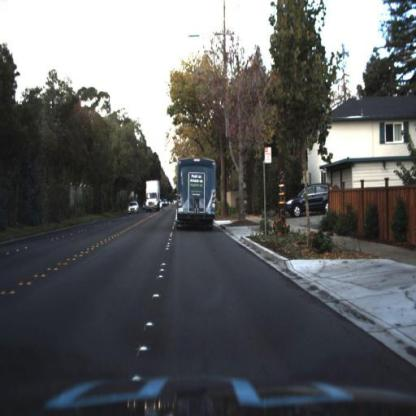car: (284, 183, 337, 214), (145, 180, 163, 216), (128, 200, 140, 215)
truck: (175, 155, 219, 235), (144, 179, 160, 215)
